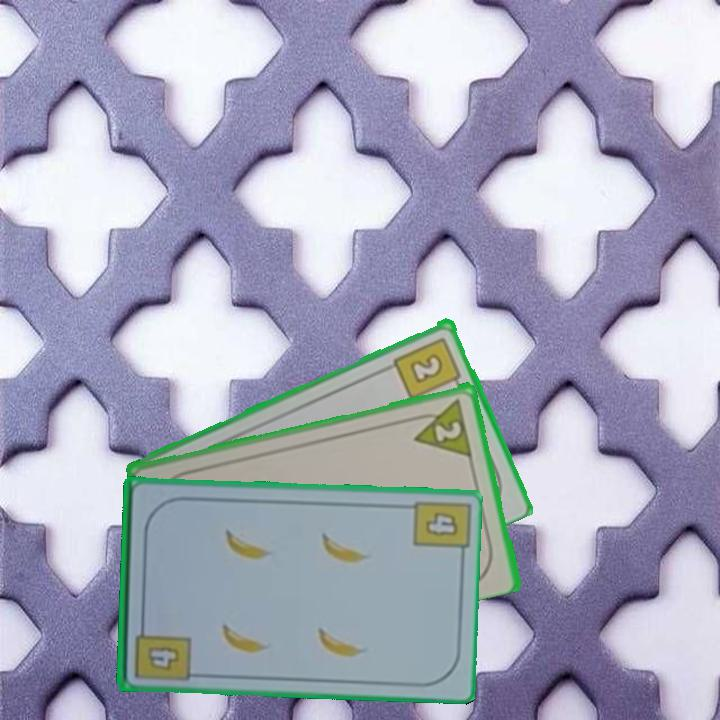2b: (390, 333, 465, 402)
2p: (406, 394, 476, 459)
4b: (131, 617, 192, 681), (422, 508, 462, 539)
